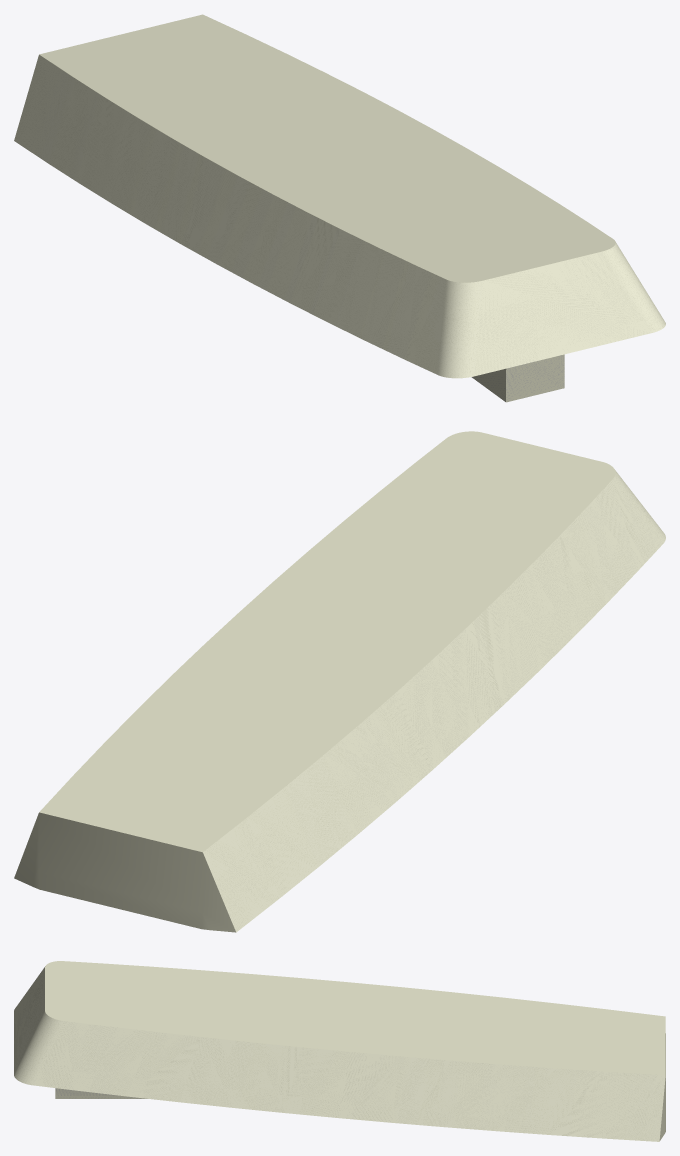
File: original-4.obj
3 renders of one model, top to bottom at view 1: azimuth 30°, elevation 25°; view 2: azimuth 150°, elevation 25°; view 3: azimuth 270°, elevation 25°, orthographic. The views are drawn at different scales.
Visible parts, largest first — view 1: mesh3/mesh3-geometry#mesh3-geometry; view 2: mesh3/mesh3-geometry#mesh3-geometry; view 3: mesh3/mesh3-geometry#mesh3-geometry.
Part boxes in pixels (x1,y1,x2,y2): mesh3/mesh3-geometry#mesh3-geometry: (14,14,665,402); mesh3/mesh3-geometry#mesh3-geometry: (14,431,665,932); mesh3/mesh3-geometry#mesh3-geometry: (14,961,665,1141).
Bounding box in the file's own units: 0.608 × 0.3539 × 1.85.
